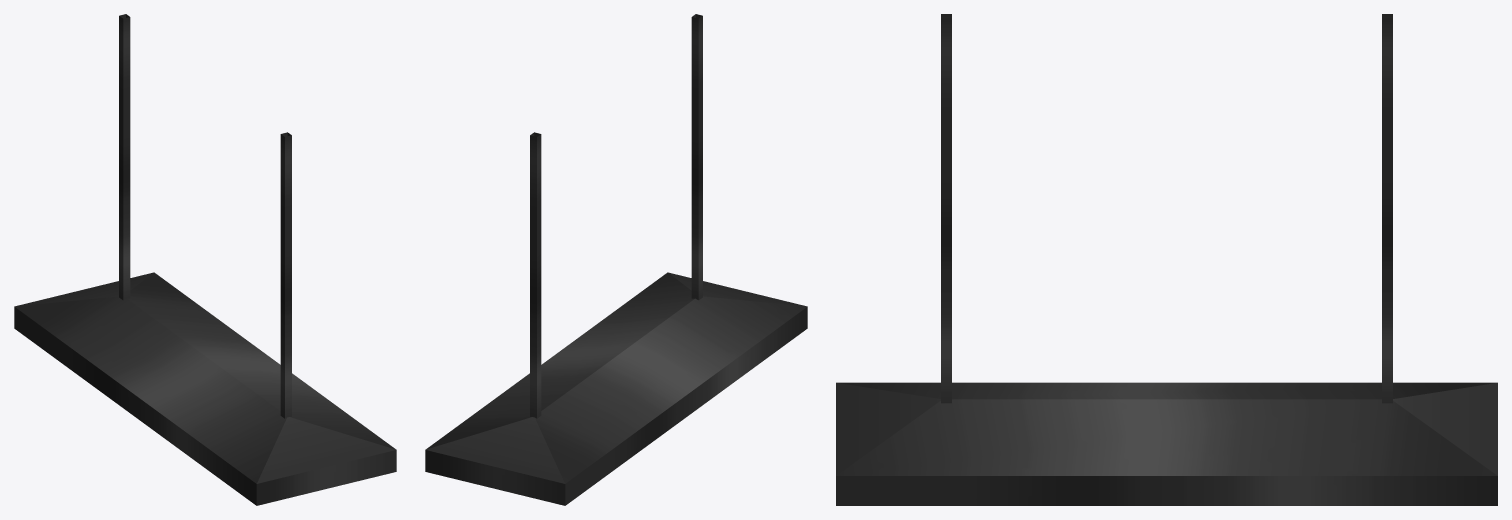
File: Lamp_012.fbx
3 renders of one model, left to right at view 1: azimuth 30°, elevation 25°; view 2: azimuth 150°, elevation 25°; view 3: azimuth 270°, elevation 25°, orthographic. The views are drawn at different scales.
Parts seen in each view (by area): view 1: BlueChip_Interior.194; view 2: BlueChip_Interior.194; view 3: BlueChip_Interior.194.
Boxes of the visible parts, bbox=[...] form: BlueChip_Interior.194: bbox=[14, 14, 396, 505]; BlueChip_Interior.194: bbox=[425, 14, 807, 505]; BlueChip_Interior.194: bbox=[836, 14, 1497, 505].
Size of the model in its own units: 100 by 222 by 300.
